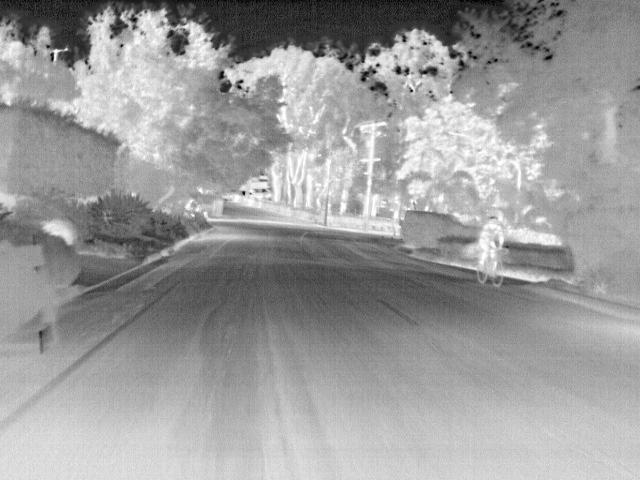person: (476, 221, 506, 272)
